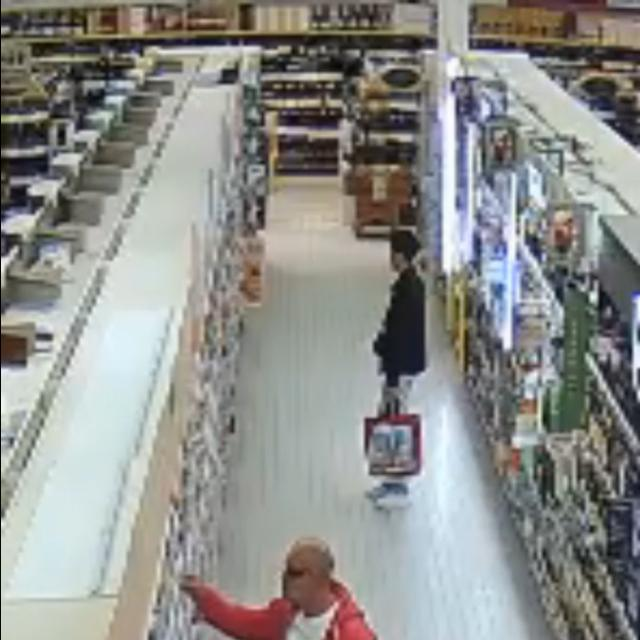bags: (365, 414, 422, 477)
hands: (180, 575, 203, 624), (382, 386, 403, 403)
person: (182, 539, 374, 639), (374, 230, 426, 415)
